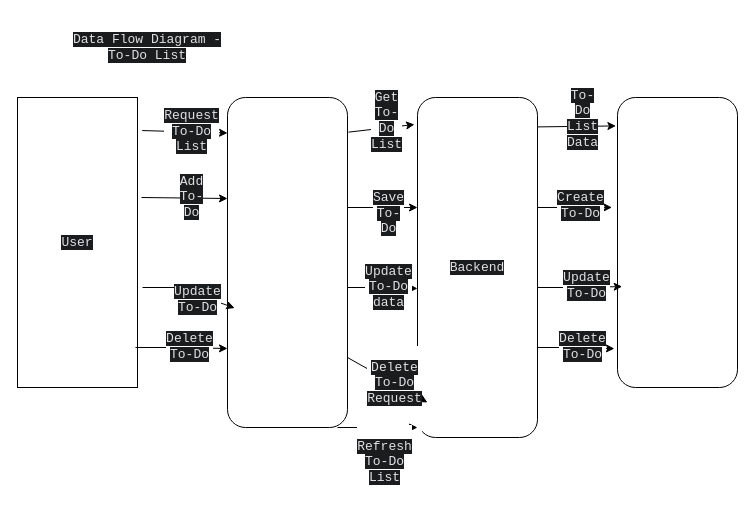
The diagram is 755 pixels wide and 528 high, and some of its shapes have lost their labels. The shapes that lost their labels are listed below. From the top down, each one's centre as x and y in pixels, then its label:
At (287,262): "Frontend".
At (677,242): "Database".
